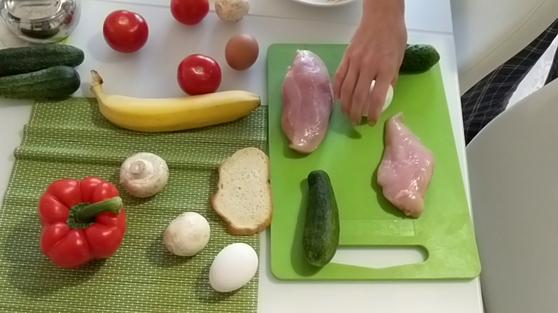champignon: (119, 150, 169, 197), (163, 210, 209, 256), (215, 1, 252, 24)
chicken_fillet: (373, 113, 434, 217), (283, 47, 336, 153)
cucumber: (301, 172, 342, 272), (1, 63, 80, 102), (2, 43, 88, 69), (400, 44, 441, 76)
egg: (207, 242, 258, 296), (225, 32, 258, 72)
pepper: (41, 174, 125, 269)
tomato: (178, 53, 225, 98), (103, 8, 147, 51), (167, 1, 210, 25)
white_bread: (211, 148, 275, 234)
